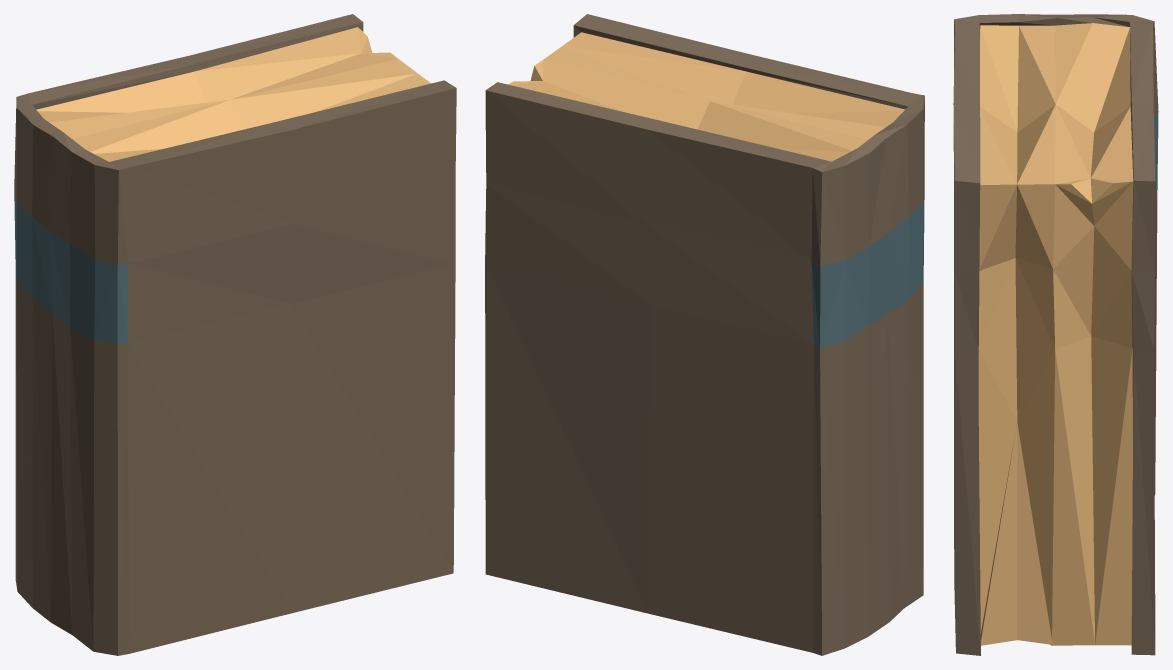
File: SFI_Book_034.fbx
3 renders of one model, left to right at view 1: azimuth 30°, elevation 25°; view 2: azimuth 150°, elevation 25°; view 3: azimuth 270°, elevation 25°, orthographic. The views are drawn at different scales.
Visible parts, largest first — view 1: SFI_Book_034; view 2: SFI_Book_034; view 3: SFI_Book_034.
Boxes of the visible parts, x1,y1,x2,y2 form: SFI_Book_034: (14, 14, 456, 655); SFI_Book_034: (485, 14, 924, 655); SFI_Book_034: (953, 14, 1158, 655).
Size of the model in its own units: 22.36 by 29.36 by 11.44.
